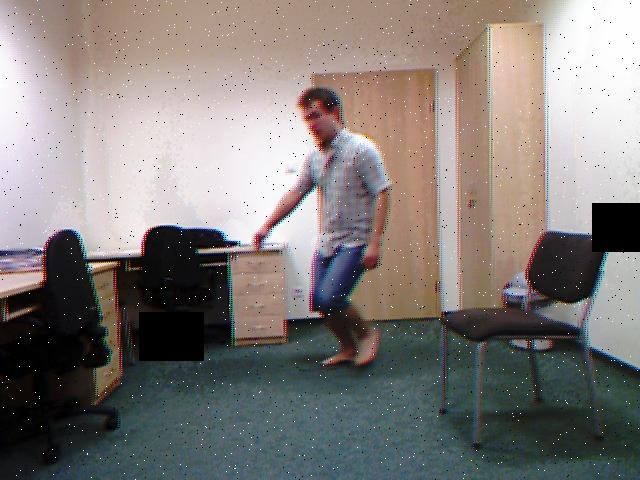near-fall: (278, 82, 390, 381)
